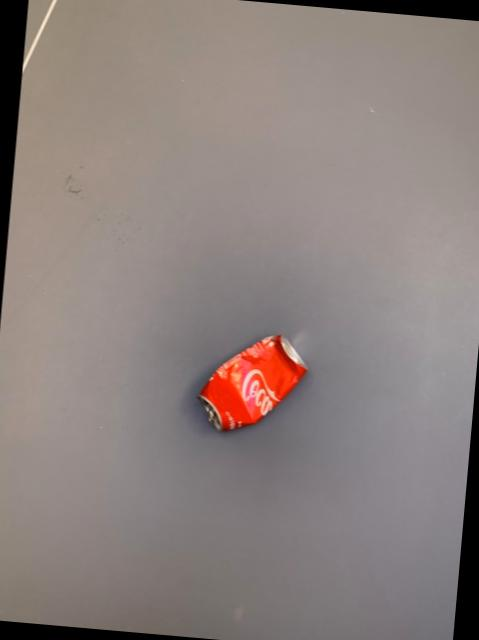metal: (196, 335, 304, 431)
